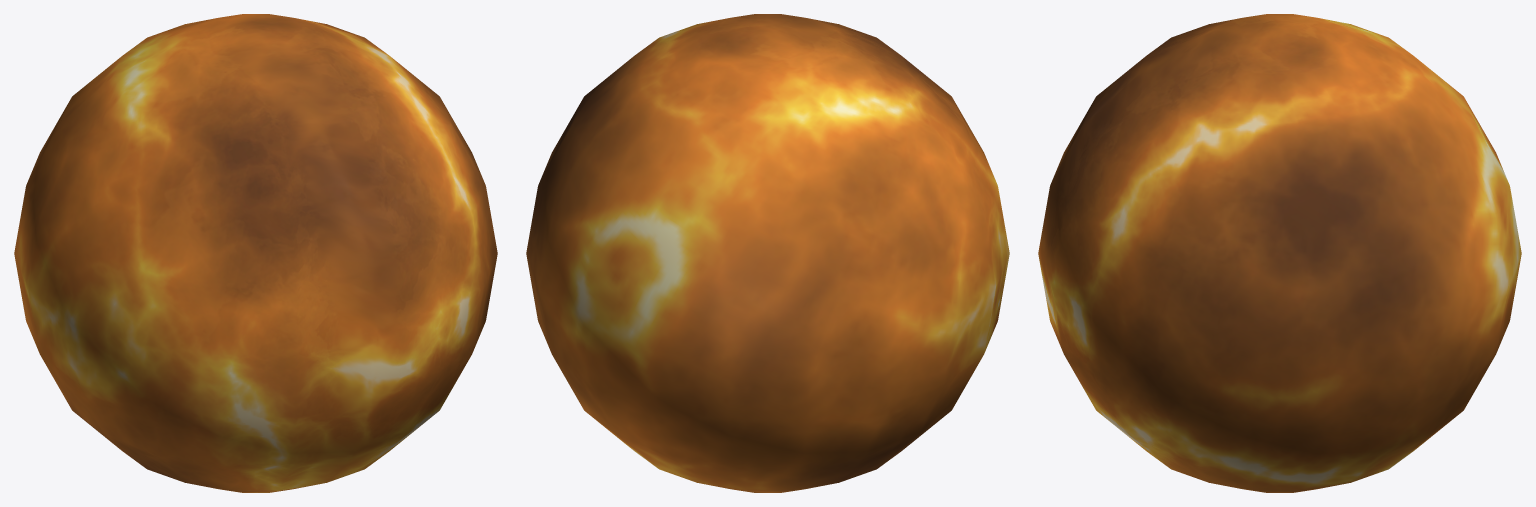
Rendered from Planet_Venus.fbx.
The picture shows the model from 3 angles, left to right: view 1: azimuth 30°, elevation 25°; view 2: azimuth 150°, elevation 25°; view 3: azimuth 270°, elevation 25°; orthographic projection.
Visible parts, largest first — view 1: Planet_Venus; view 2: Planet_Venus; view 3: Planet_Venus.
Part boxes in pixels (x1,y1,x2,y2): Planet_Venus: (14, 14, 497, 492); Planet_Venus: (526, 14, 1009, 492); Planet_Venus: (1038, 14, 1521, 492).
Size of the model in its own units: 197 by 200 by 200.
